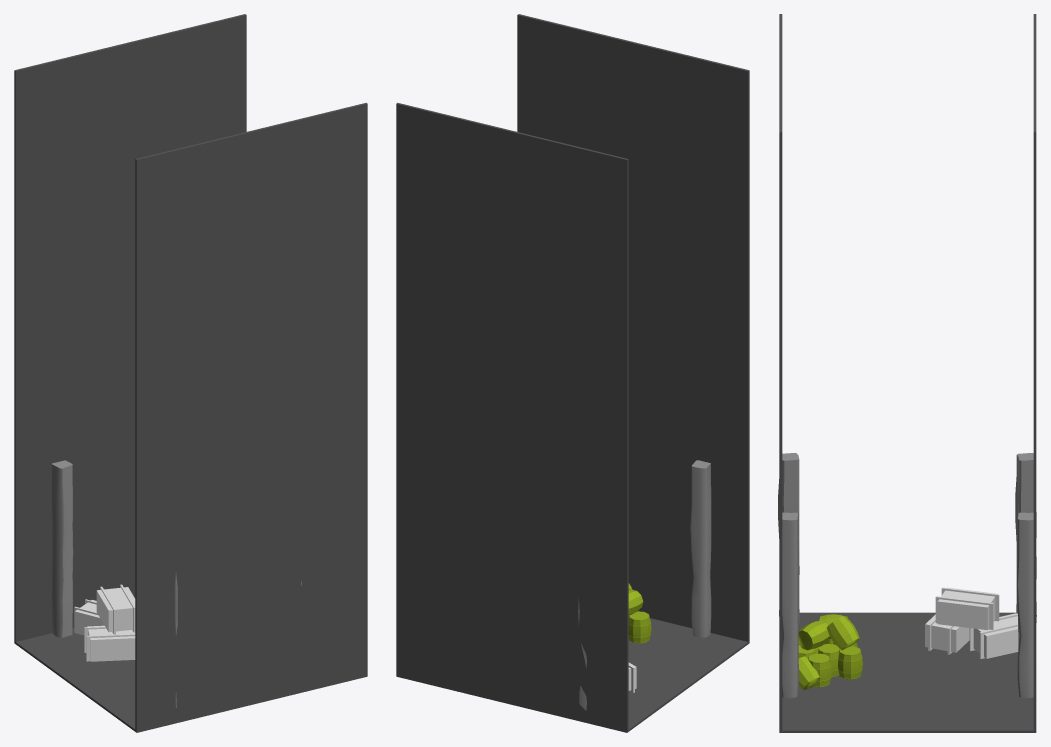
The model's file is Tunnel1.FBX.
3 renders of one model, left to right at view 1: azimuth 30°, elevation 25°; view 2: azimuth 150°, elevation 25°; view 3: azimuth 270°, elevation 25°, orthographic. The views are drawn at different scales.
Visible parts, largest first — view 1: Object001, Box273, Box003, Box004, Box002; view 2: Object001, Box276, Cylinder001; view 3: Object001, Box275, Box274, Box004, Box002, Box273, Box276, Box003, Cylinder021, Cylinder020, Cylinder018, Cylinder014 (+1 smaller).
Part boxes in pixels (left/top/right/bottom): Object001: left=14, top=14, right=367, bottom=732; Box273: left=52, top=460, right=73, bottom=637; Box003: left=84, top=625, right=135, bottom=661; Box004: left=96, top=584, right=135, bottom=634; Box002: left=74, top=599, right=104, bottom=635; Object001: left=396, top=14, right=749, bottom=732; Box276: left=690, top=460, right=711, bottom=637; Cylinder001: left=628, top=611, right=651, bottom=643; Object001: left=779, top=14, right=1036, bottom=732; Box275: left=782, top=512, right=799, bottom=698; Box274: left=1016, top=512, right=1033, bottom=698; Box004: left=935, top=587, right=999, bottom=630; Box002: left=969, top=613, right=1018, bottom=659; Box273: left=1015, top=453, right=1036, bottom=622; Box276: left=778, top=453, right=799, bottom=630; Box003: left=925, top=614, right=969, bottom=654; Cylinder021: left=838, top=646, right=862, bottom=679; Cylinder020: left=826, top=616, right=859, bottom=650; Cylinder018: left=798, top=620, right=830, bottom=650; Cylinder014: left=808, top=653, right=831, bottom=687.
Size of the model in its own units: 498 by 1182 by 461.
